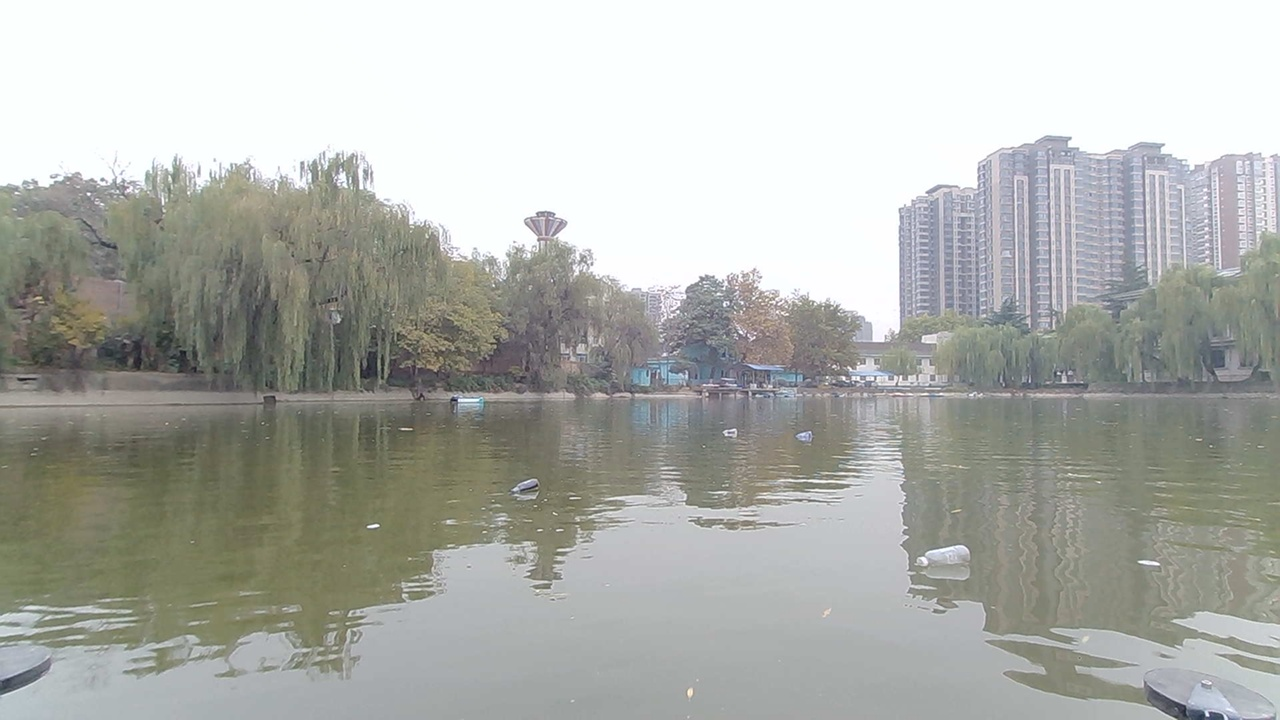bottle: (899, 533, 977, 588), (512, 479, 542, 501), (791, 428, 824, 445), (721, 419, 743, 438)
